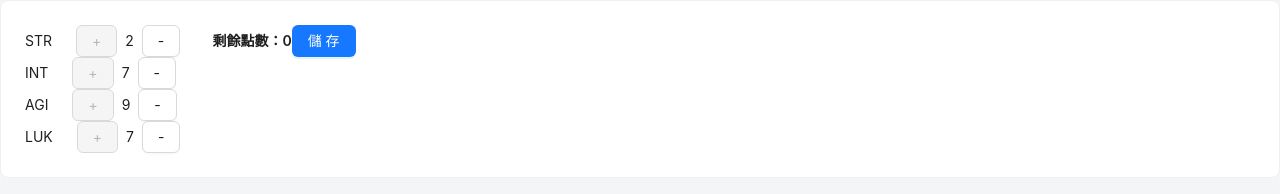
HeroProfilePanel › updates remaining points when stats change
The image size is (1280, 194).
Click the button named "decrease str".
click(161, 41)  # box [142,25,180,57]
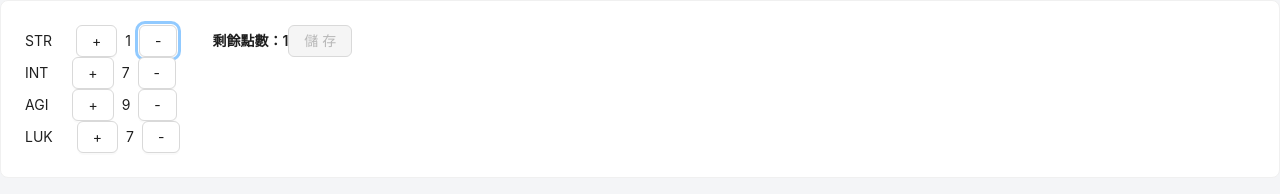
Result: the text "剩餘點數：1" is shown at [212,32,288,49]
